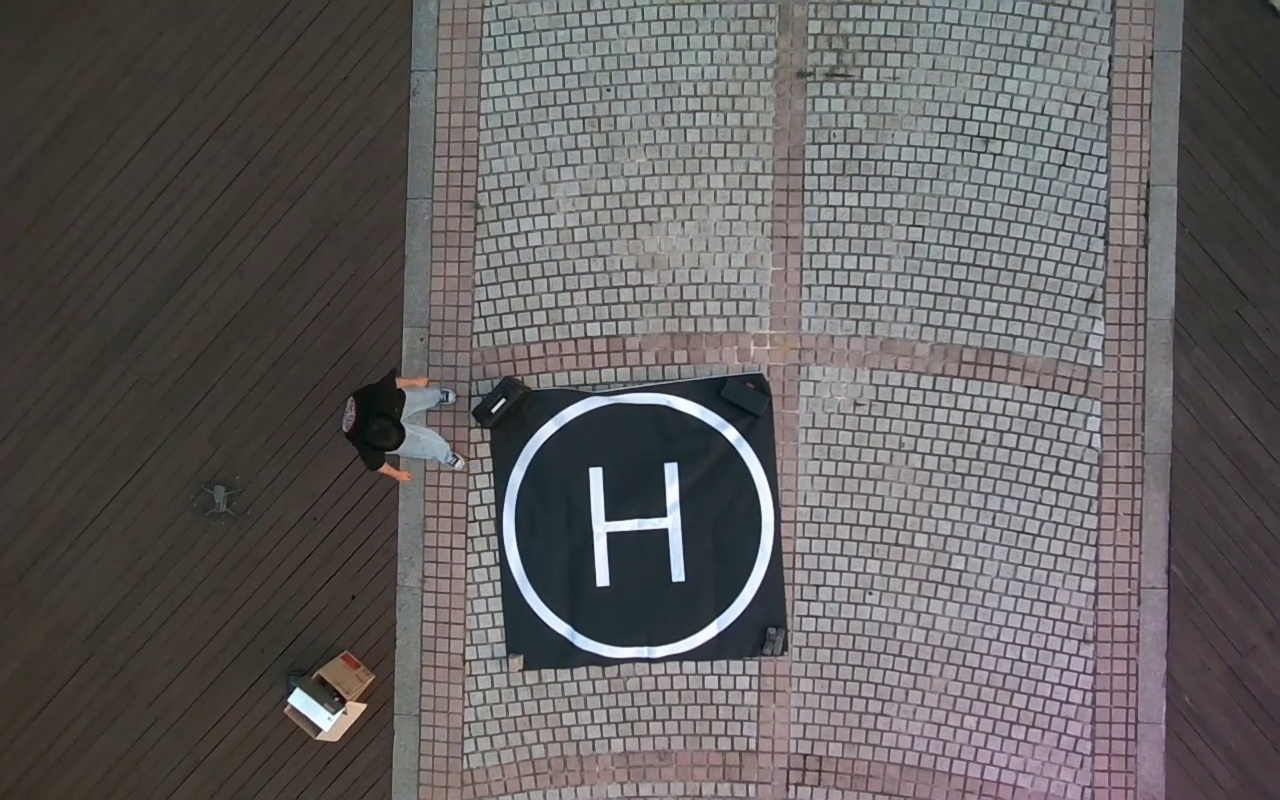H: (587, 460, 686, 584)
heliport: (499, 390, 775, 658)
